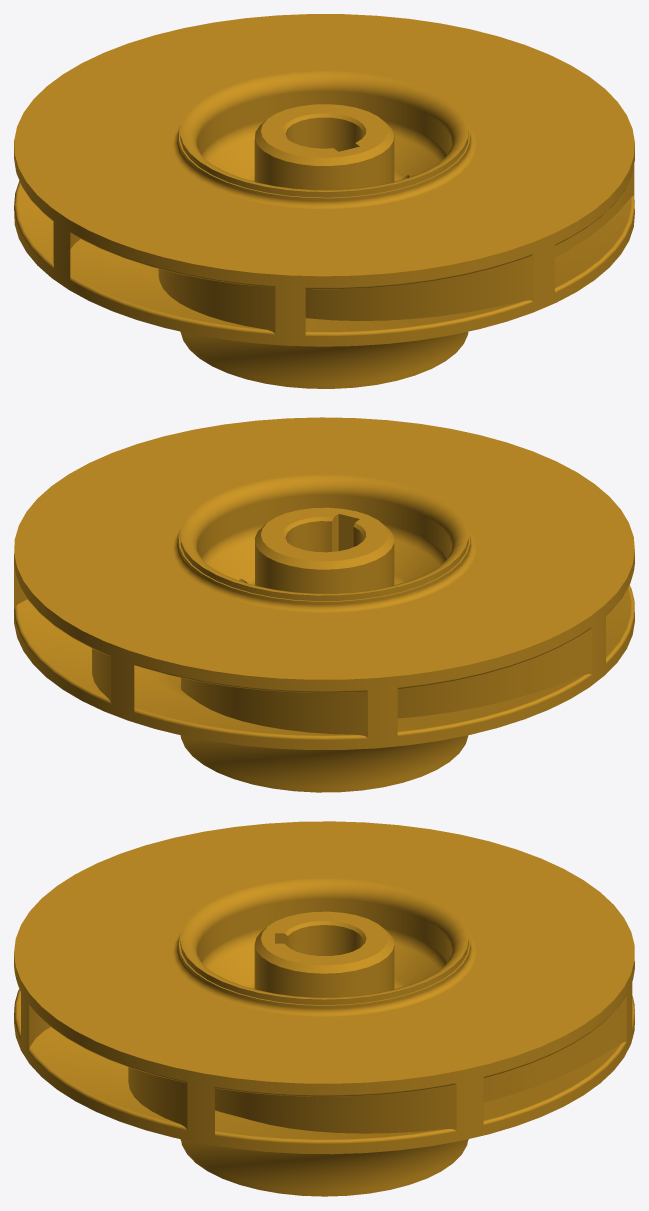
File: Laufrad.obj
3 views of the same model, one above another, from view 1: azimuth 30°, elevation 25°; view 2: azimuth 150°, elevation 25°; view 3: azimuth 270°, elevation 25° (orthographic).
Parts seen in each view (by area): view 1: Volumenkörper1; view 2: Volumenkörper1; view 3: Volumenkörper1.
Part boxes in pixels (bbox=[...]): Volumenkörper1: bbox=[14, 14, 634, 388]; Volumenkörper1: bbox=[14, 417, 634, 792]; Volumenkörper1: bbox=[14, 821, 634, 1196].
Bounding box in the file's own units: 200 × 70 × 200.
